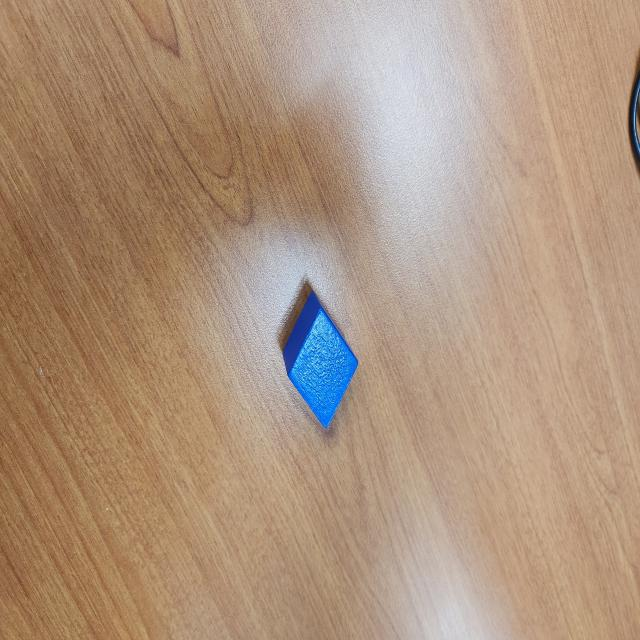blue: (283, 292, 359, 430)
